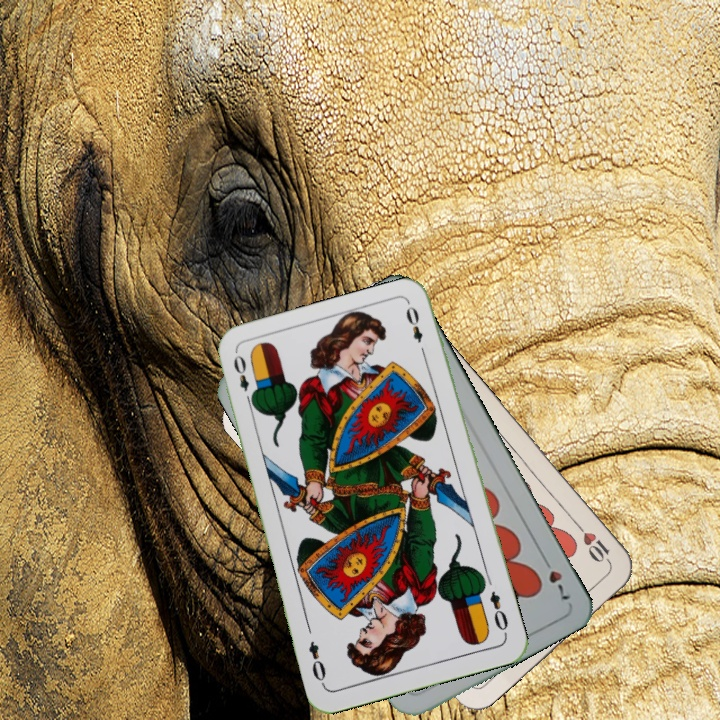EO: (229, 351, 257, 408), (486, 587, 511, 638)
H10: (571, 519, 615, 568)
H7: (538, 551, 573, 603)
